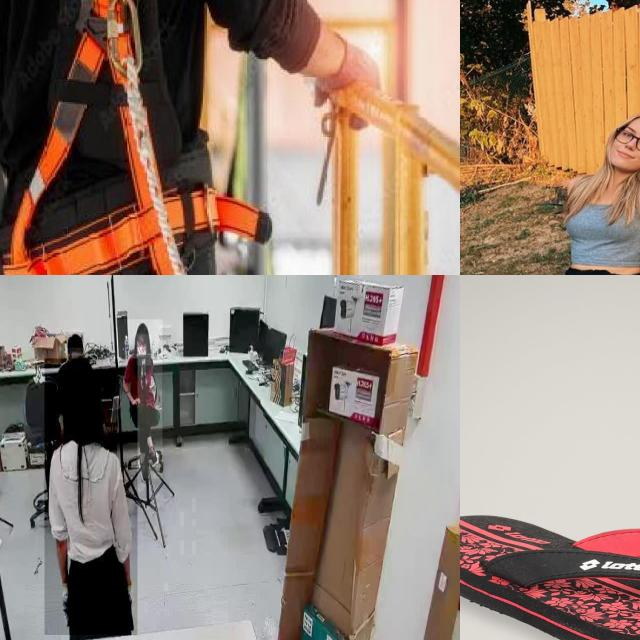Harness: (0, 0, 272, 275)
Sandals: (460, 513, 640, 640)
face_mask: (136, 334, 152, 366)
hand_noglove: (131, 396, 141, 406), (137, 347, 146, 357)
head_nohelmet: (59, 356, 102, 398), (66, 332, 84, 348), (135, 321, 149, 334)
person: (44, 358, 138, 636), (117, 320, 163, 480)
shoes: (148, 444, 160, 468)
